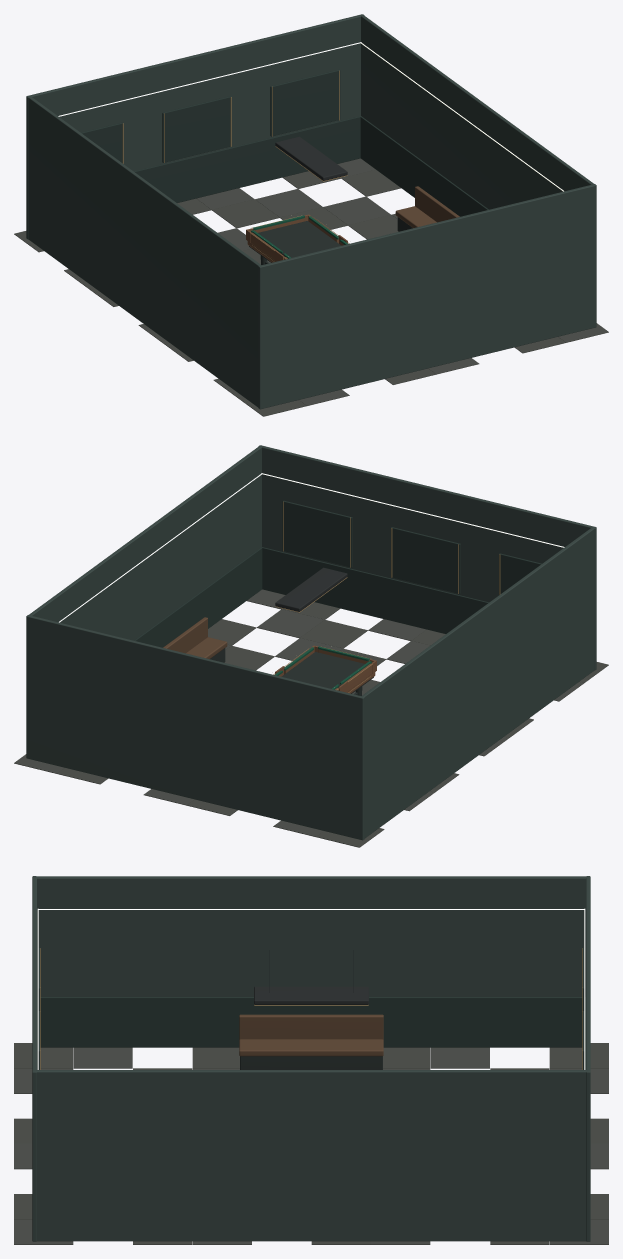
Rendered from billiards-room-v1.glb.
The picture shows the model from 3 angles, top to bottom: view 1: azimuth 30°, elevation 25°; view 2: azimuth 150°, elevation 25°; view 3: azimuth 270°, elevation 25°; orthographic projection. The views are drawn at different scales.
Parts seen in each view (by area): view 1: BJ8_Room_BJ8_MineralWall.002, BJ8_Room_BJ8_WallPanel.002, BJ8_Room_BJ8_Floor_1.002, BJ8_Room_BJ8_Floor_2.002, BJ8_TableShell_BJ8_Ebony.002, BJ8_Pendant_BJ8_BlackMetal.002, BJ8_Room_BJ8_SeatLeather.002, BJ8_Room_BJ8_WarmDiffuser.002, BJ8_TableShell_BJ8_Walnut.002; view 2: BJ8_Room_BJ8_MineralWall.002, BJ8_Room_BJ8_WallPanel.002, BJ8_Room_BJ8_Floor_1.002, BJ8_Room_BJ8_Floor_2.002, BJ8_TableShell_BJ8_Ebony.002, BJ8_Pendant_BJ8_BlackMetal.002, BJ8_Room_BJ8_SeatLeather.002, BJ8_Room_BJ8_WarmDiffuser.002, BJ8_TableShell_BJ8_Walnut.002; view 3: BJ8_Room_BJ8_MineralWall.002, BJ8_Room_BJ8_WallPanel.002, BJ8_Room_BJ8_Floor_1.002, BJ8_Room_BJ8_Floor_2.002, BJ8_Room_BJ8_SeatLeather.002, BJ8_Pendant_BJ8_BlackMetal.002, BJ8_Room_BJ8_Ebony.002, BJ8_Room_BJ8_WarmDiffuser.002.
Part boxes in pixels (bbox=[...]): BJ8_Room_BJ8_MineralWall.002: bbox=[26, 14, 596, 409]; BJ8_Room_BJ8_WallPanel.002: bbox=[81, 69, 488, 216]; BJ8_Room_BJ8_Floor_1.002: bbox=[14, 170, 565, 416]; BJ8_Room_BJ8_Floor_2.002: bbox=[64, 158, 608, 406]; BJ8_TableShell_BJ8_Ebony.002: bbox=[249, 221, 341, 264]; BJ8_Pendant_BJ8_BlackMetal.002: bbox=[275, 136, 347, 180]; BJ8_Room_BJ8_SeatLeather.002: bbox=[395, 186, 459, 228]; BJ8_Room_BJ8_WarmDiffuser.002: bbox=[58, 42, 563, 191]; BJ8_TableShell_BJ8_Walnut.002: bbox=[247, 218, 348, 262]; BJ8_Room_BJ8_MineralWall.002: bbox=[26, 445, 596, 840]; BJ8_Room_BJ8_WallPanel.002: bbox=[134, 500, 541, 647]; BJ8_Room_BJ8_Floor_1.002: bbox=[57, 602, 608, 847]; BJ8_Room_BJ8_Floor_2.002: bbox=[14, 589, 583, 837]; BJ8_TableShell_BJ8_Ebony.002: bbox=[281, 652, 373, 695]; BJ8_Pendant_BJ8_BlackMetal.002: bbox=[275, 567, 347, 611]; BJ8_Room_BJ8_SeatLeather.002: bbox=[163, 617, 227, 659]; BJ8_Room_BJ8_WarmDiffuser.002: bbox=[59, 473, 564, 622]; BJ8_TableShell_BJ8_Walnut.002: bbox=[274, 649, 375, 693]; BJ8_Room_BJ8_MineralWall.002: bbox=[32, 876, 590, 1241]; BJ8_Room_BJ8_WallPanel.002: bbox=[37, 948, 585, 1069]; BJ8_Room_BJ8_Floor_1.002: bbox=[14, 1043, 608, 1244]; BJ8_Room_BJ8_Floor_2.002: bbox=[14, 1047, 608, 1244]; BJ8_Room_BJ8_SeatLeather.002: bbox=[239, 1014, 383, 1056]; BJ8_Pendant_BJ8_BlackMetal.002: bbox=[254, 950, 368, 1004]; BJ8_Room_BJ8_Ebony.002: bbox=[240, 1056, 382, 1069]; BJ8_Room_BJ8_WarmDiffuser.002: bbox=[37, 908, 585, 1069].
Size of what is drawn, in the model's own units: 8 by 3.6 by 10.
